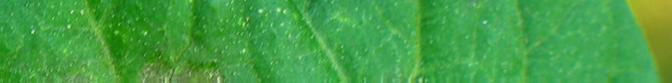Tomato leaf late blight: (0, 0, 647, 83)
